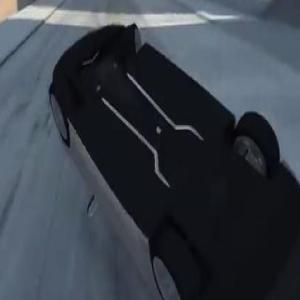serious: (43, 9, 300, 300)
